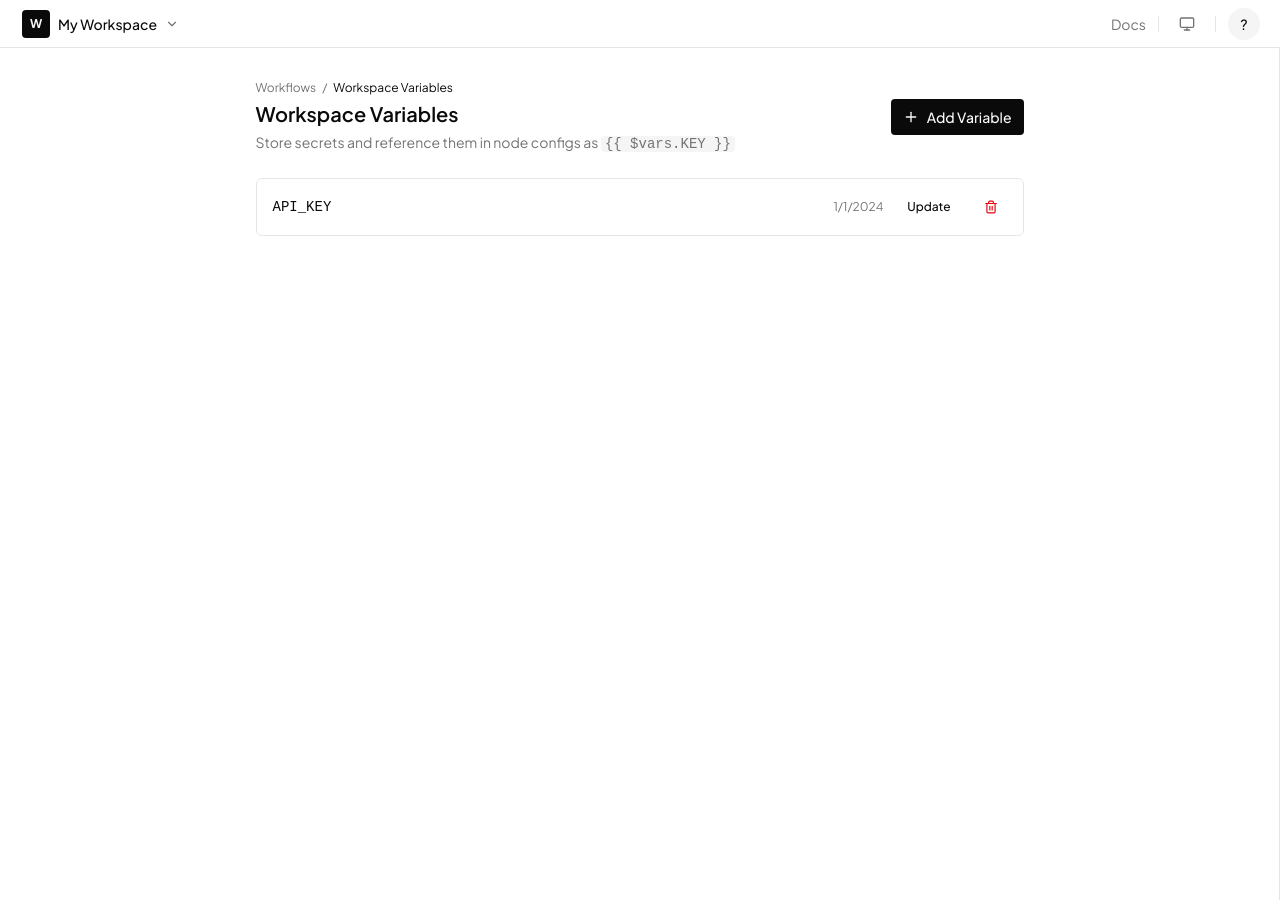
Scenario: VariablesPage — delete variable › removes the variable from the list after deletion
The width and height of the screenshot is (1280, 900).
Expected: the text "API_KEY" is shown, [272,199,331,215]
Step 1. Click the button named "delete api_key" → point(990, 207), box [974,191,1006,223]
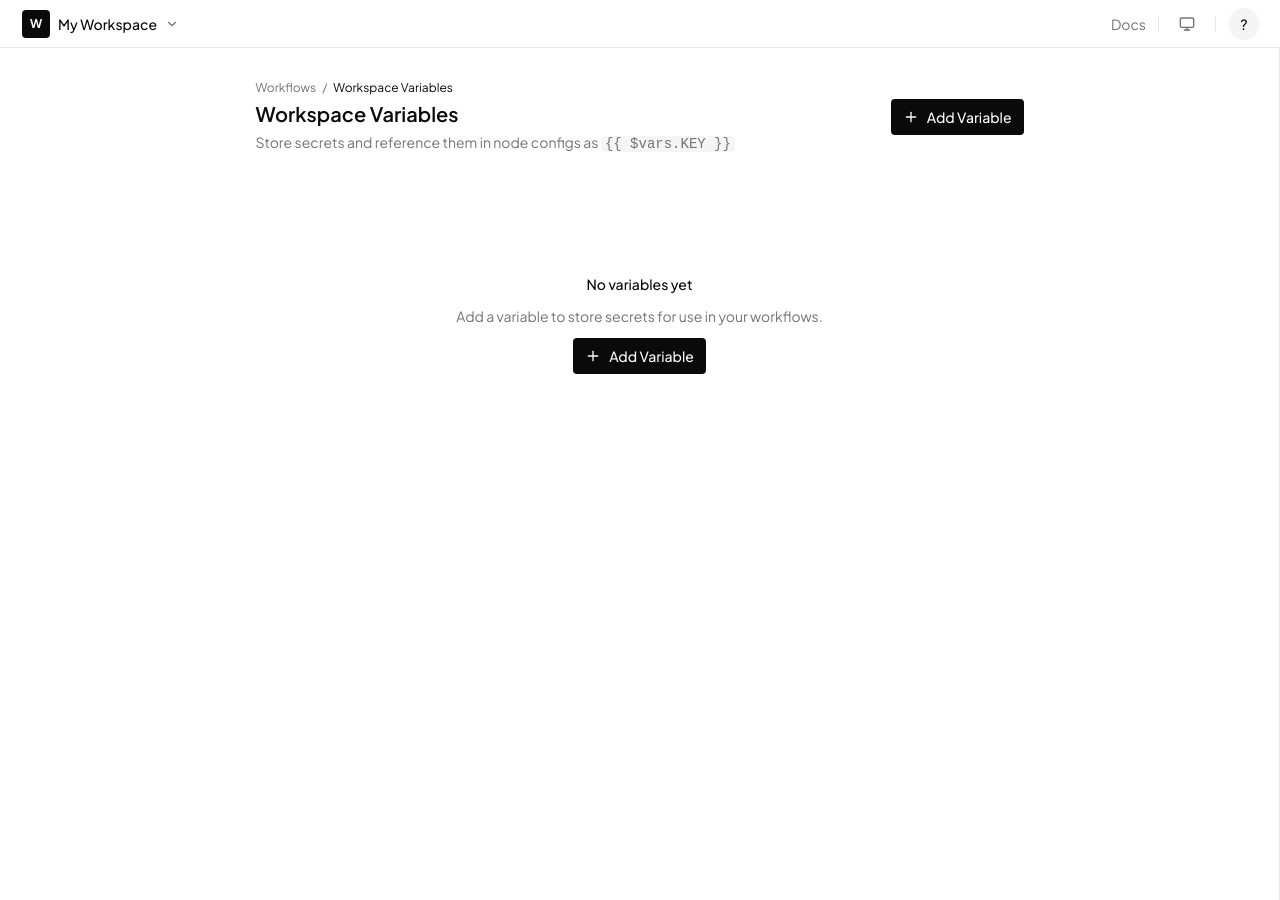
Expected: the text "API_KEY" is gone
